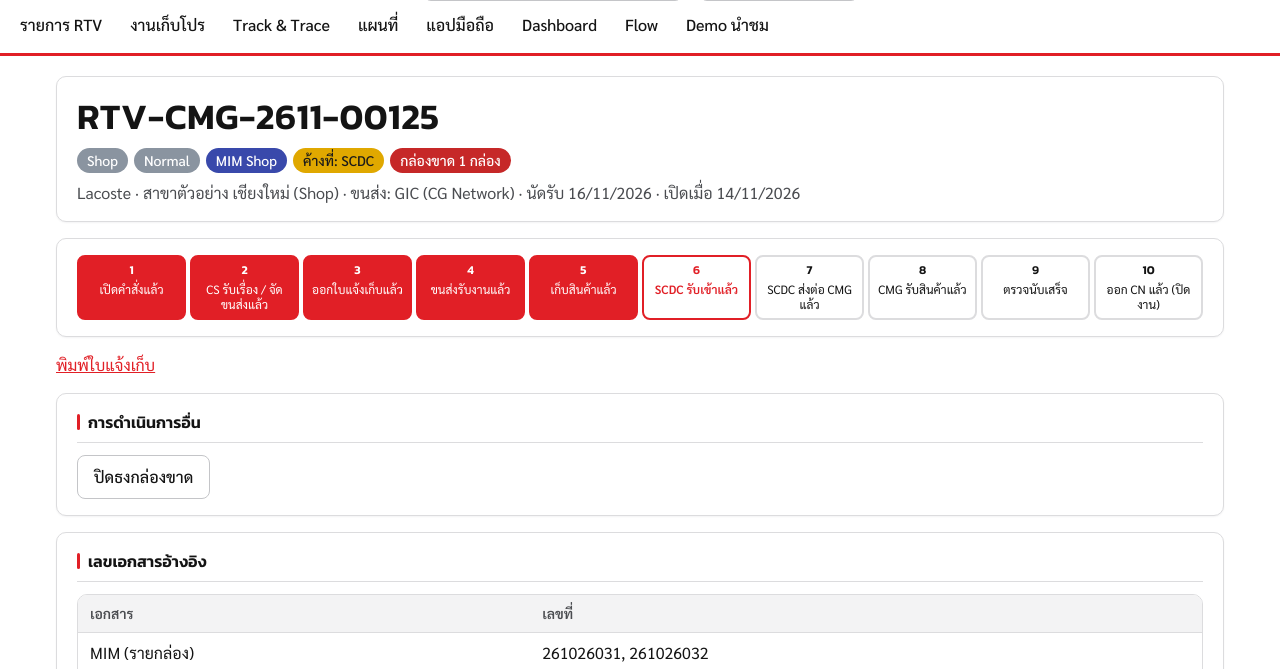
Test case: CS can clear the short-box flag with a note
The image size is (1280, 669).
Step 1. Click the button "ปิดธงกล่องขาด" → click(144, 477), box left=77, top=455, right=210, bottom=499
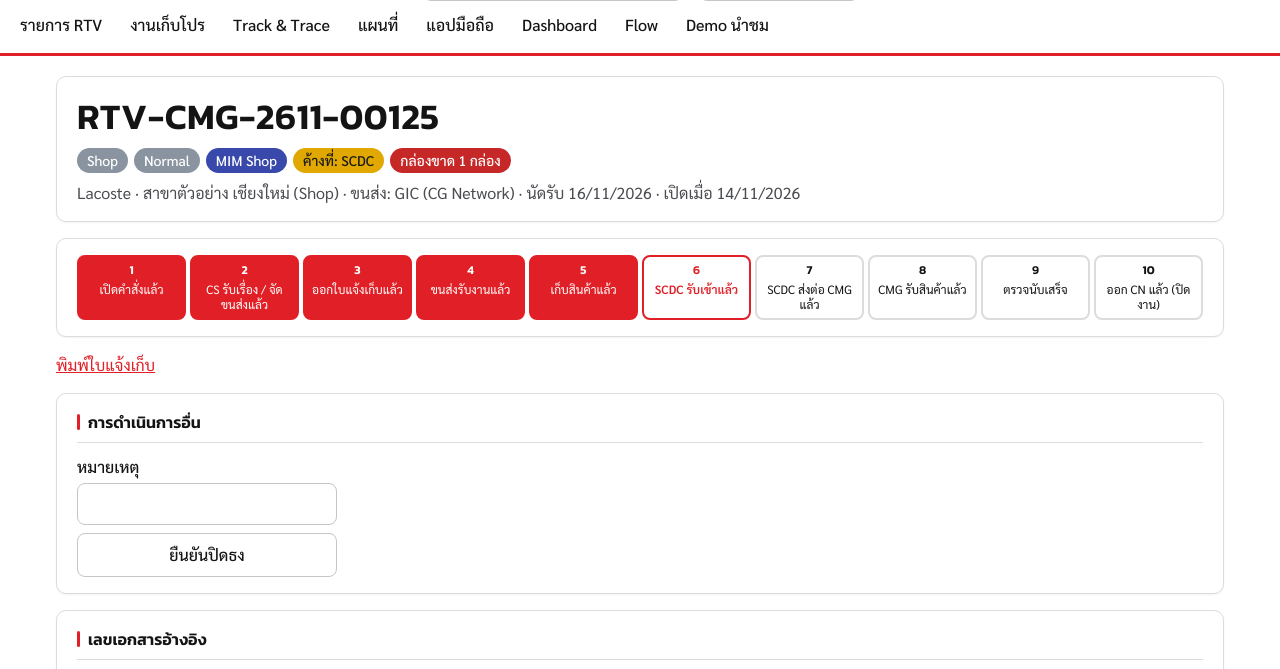
Step 2. Click the button "ยืนยันปิดธง" → click(207, 555), box left=77, top=533, right=337, bottom=577
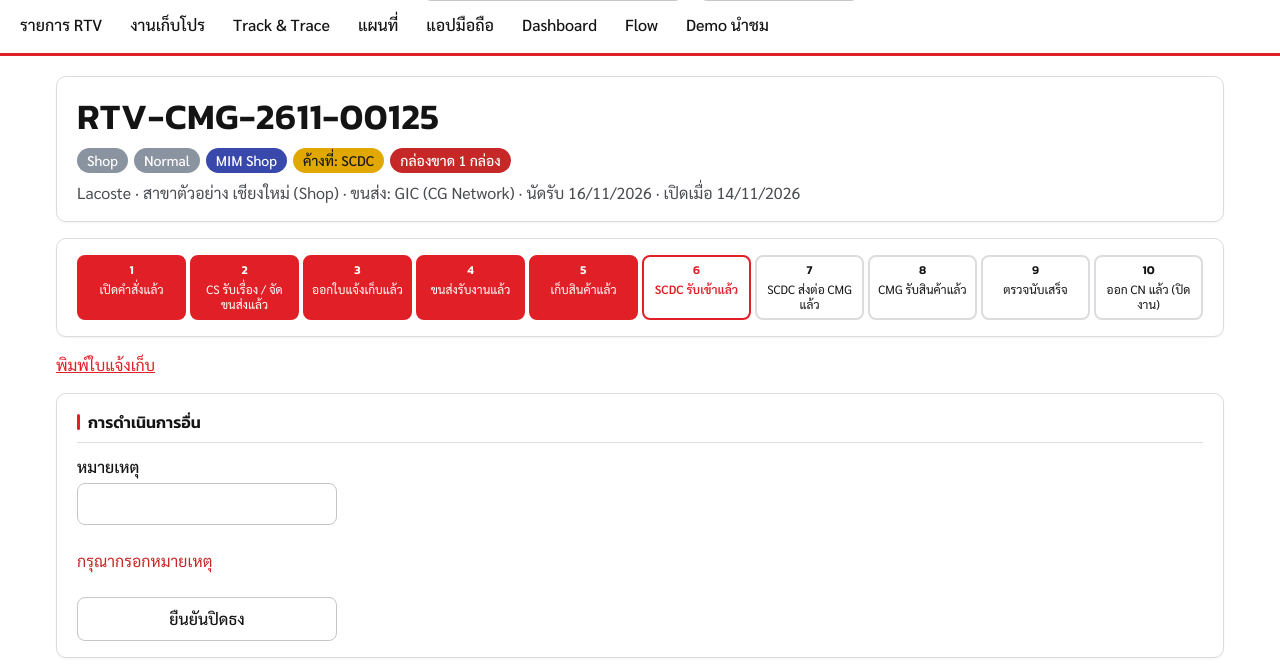
Expected: the text "กรุณากรอกหมายเหตุ" is shown, left=77, top=550, right=212, bottom=571
Step 3. Type "พบกล่องแล้ว" into the field labelled "หมายเหตุ" → (207, 504), box left=77, top=483, right=337, bottom=525
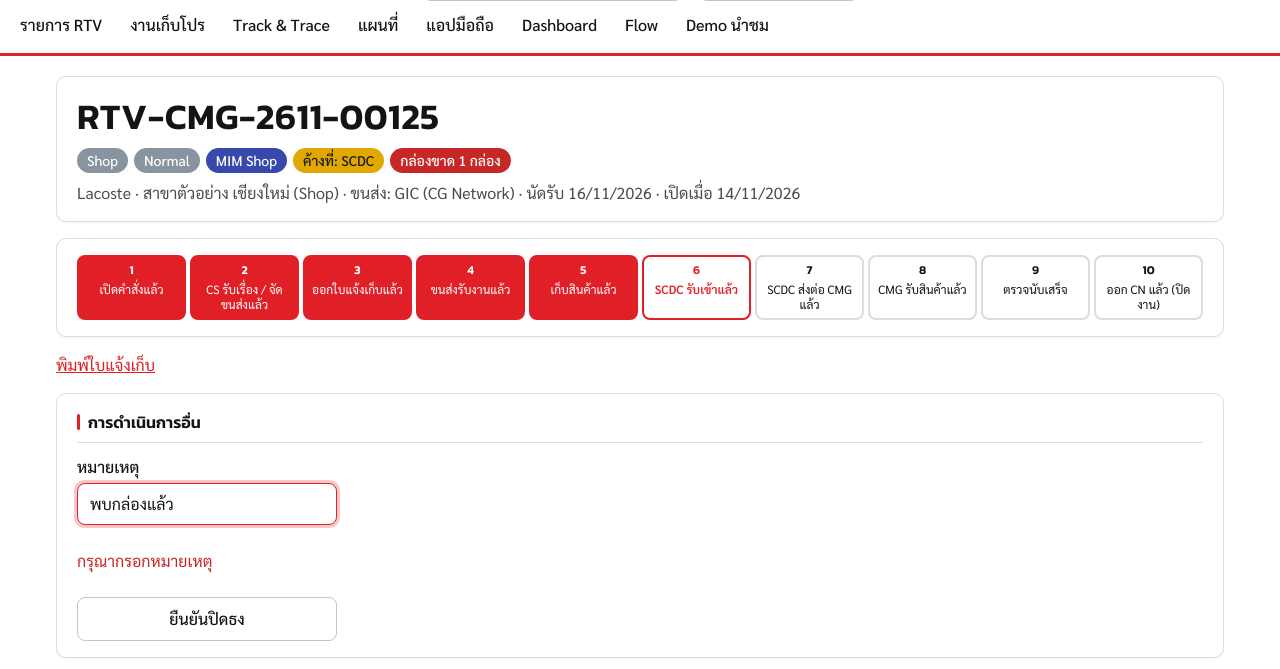
Step 4. Click the button "ยืนยันปิดธง" → click(207, 619), box left=77, top=597, right=337, bottom=641
(page scrolled)
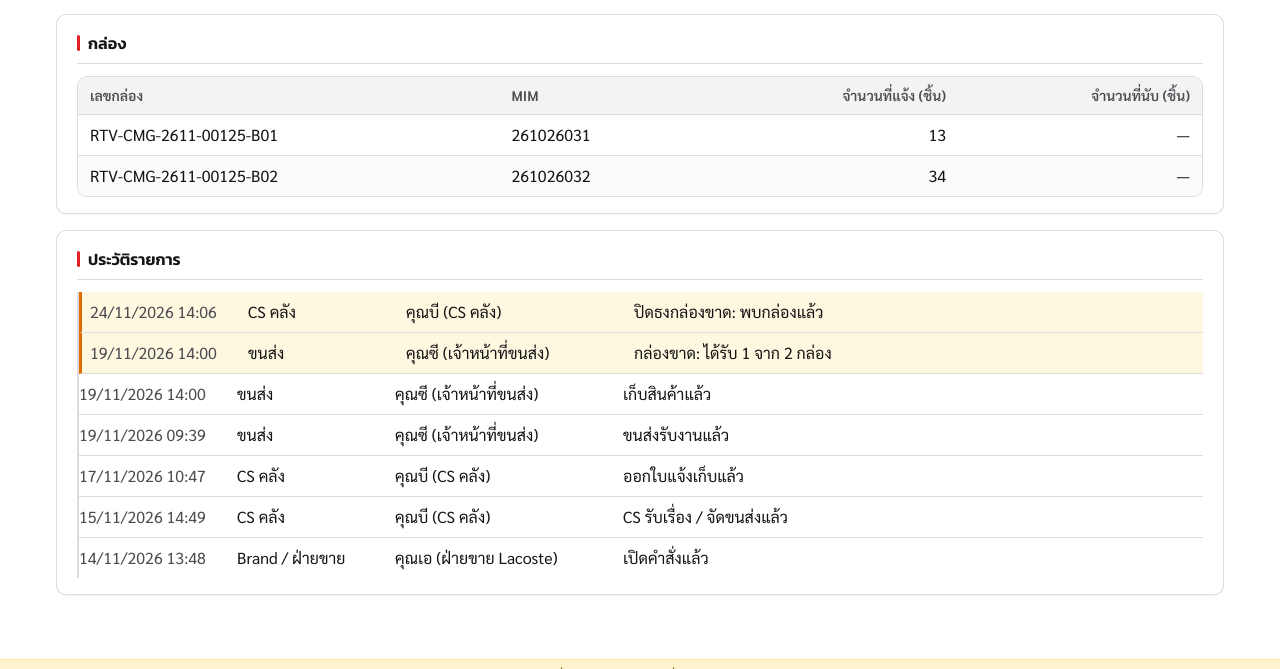
Expected: the text "ปิดธงกล่องขาด: พบกล่องแล้ว" is shown, left=634, top=301, right=823, bottom=322
